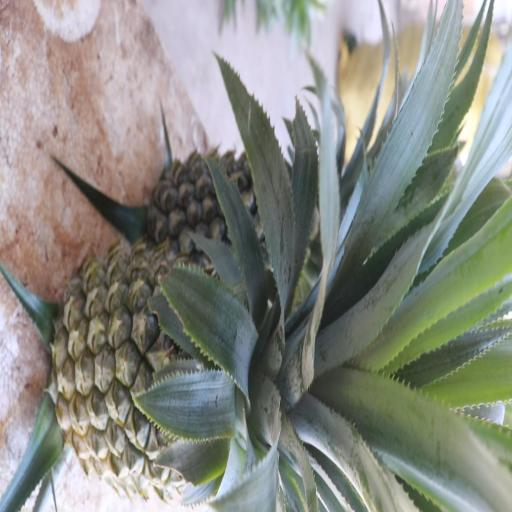------------------------------: (51, 246, 283, 480)
